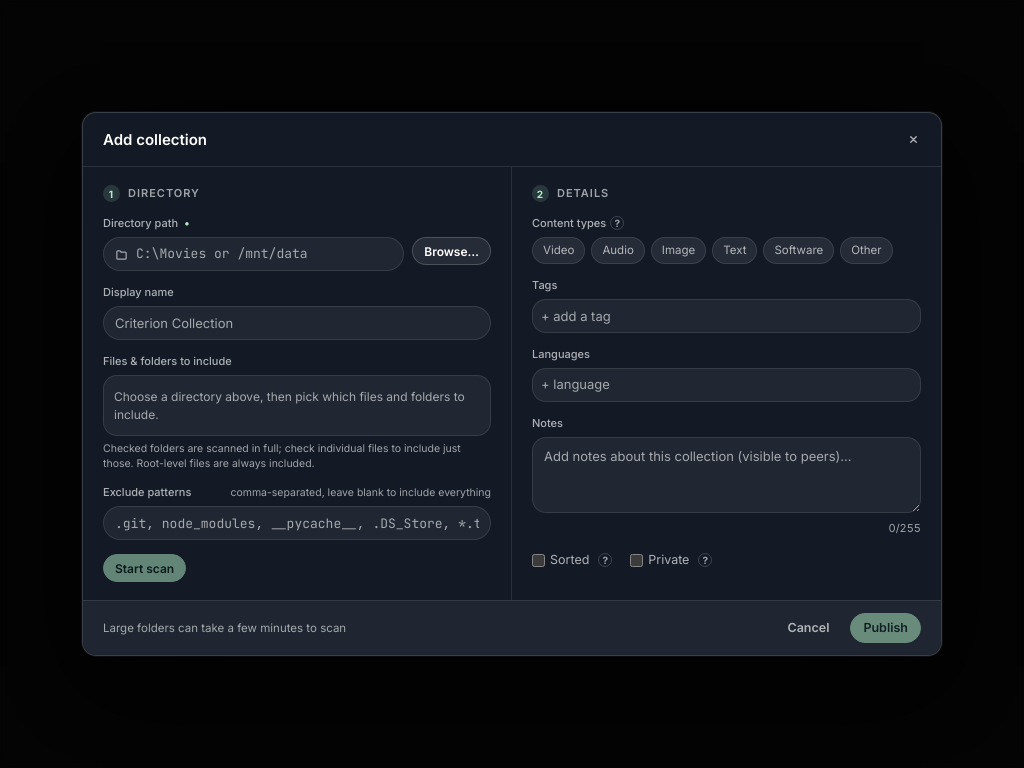
Test: AddCollectionModal (QURATOR-206 — one two-column screen) › both_columns_mount_together_and_a_scan_does_not_swap_modals
Expected: the text "Content types ?" is shown, [532, 216, 624, 230]
In the field with placeholder "C:\\Movies or /mnt/data": point(264, 254) [136, 245, 392, 264], type "/mnt/movies"
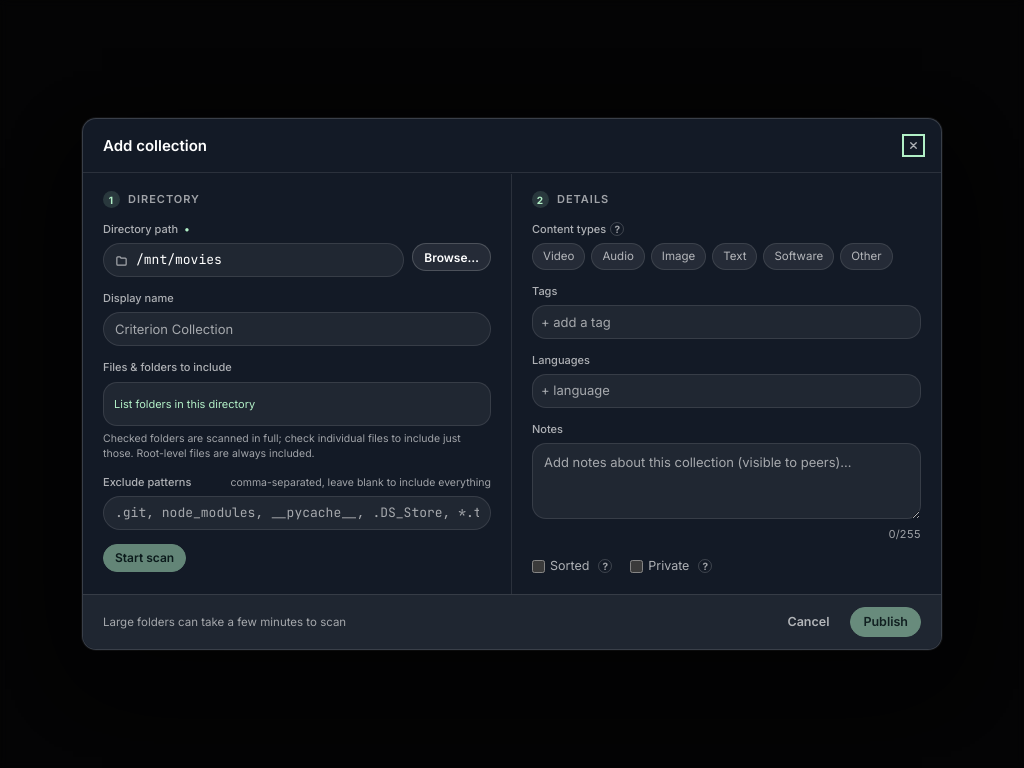
In the field with placeholder "Criterion Collection": point(297, 330) [103, 313, 491, 347], type "Movies"
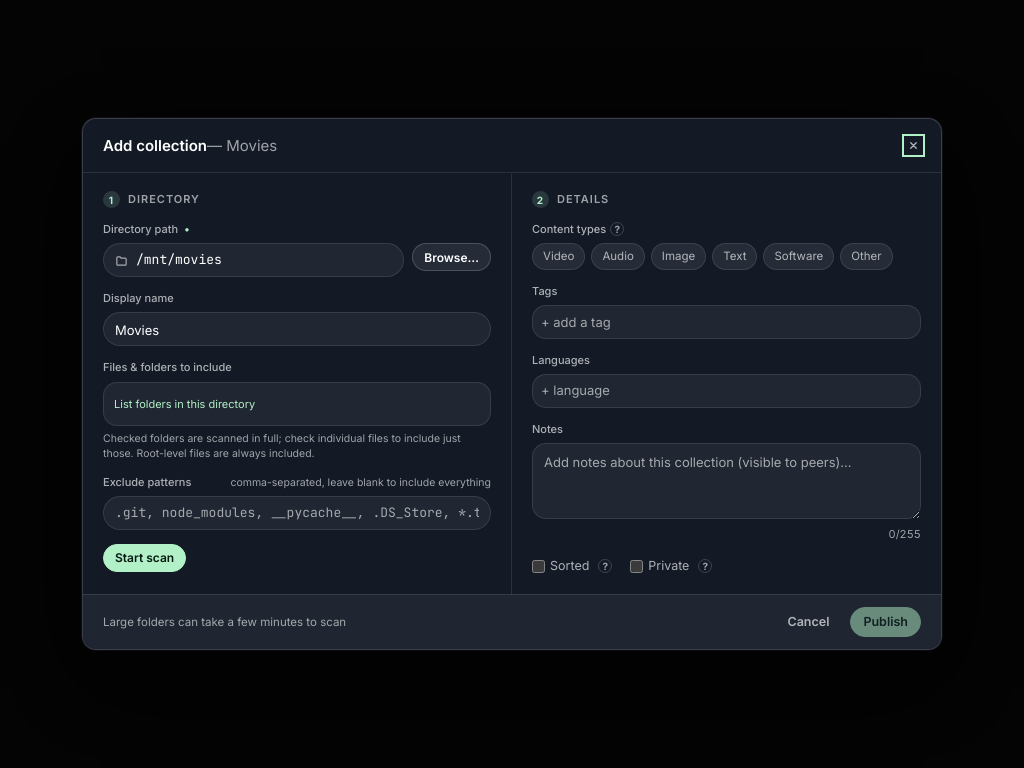
Click the button "Start scan": point(145, 558) [103, 544, 186, 572]
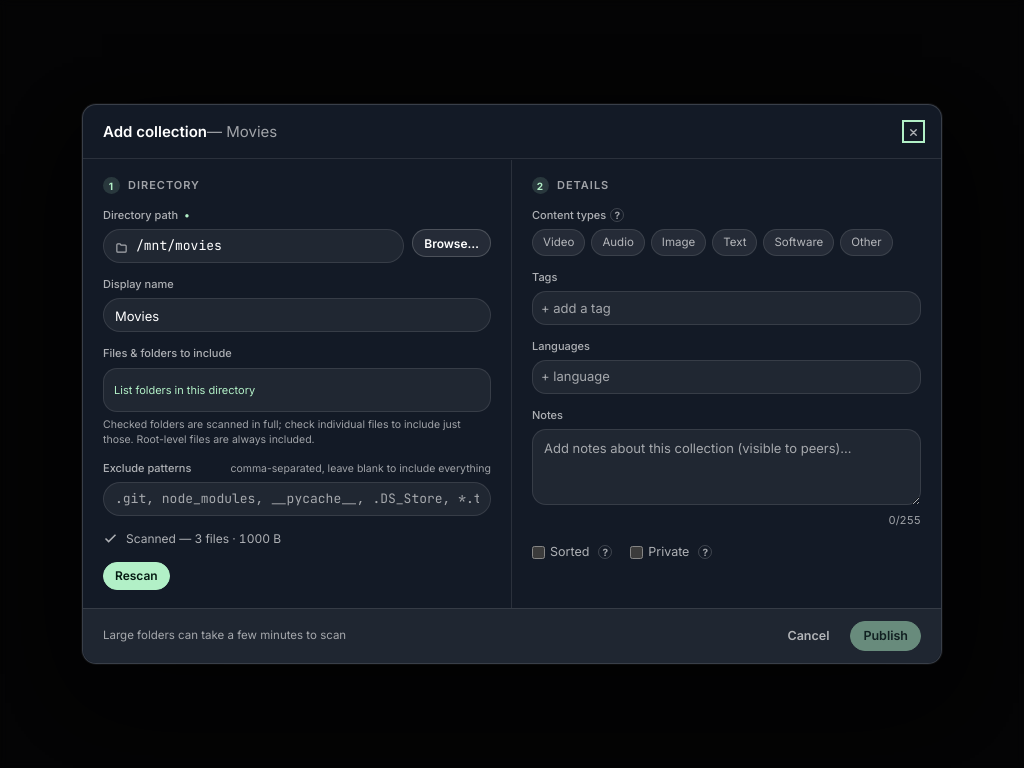
Expected: the text "Content types ?" is shown, [532, 209, 624, 223]
Now the text "Scanned — 3 files · 1000 B" is shown, box [103, 531, 281, 546]
Now the button "Rescan" is shown, box [103, 562, 170, 590]
